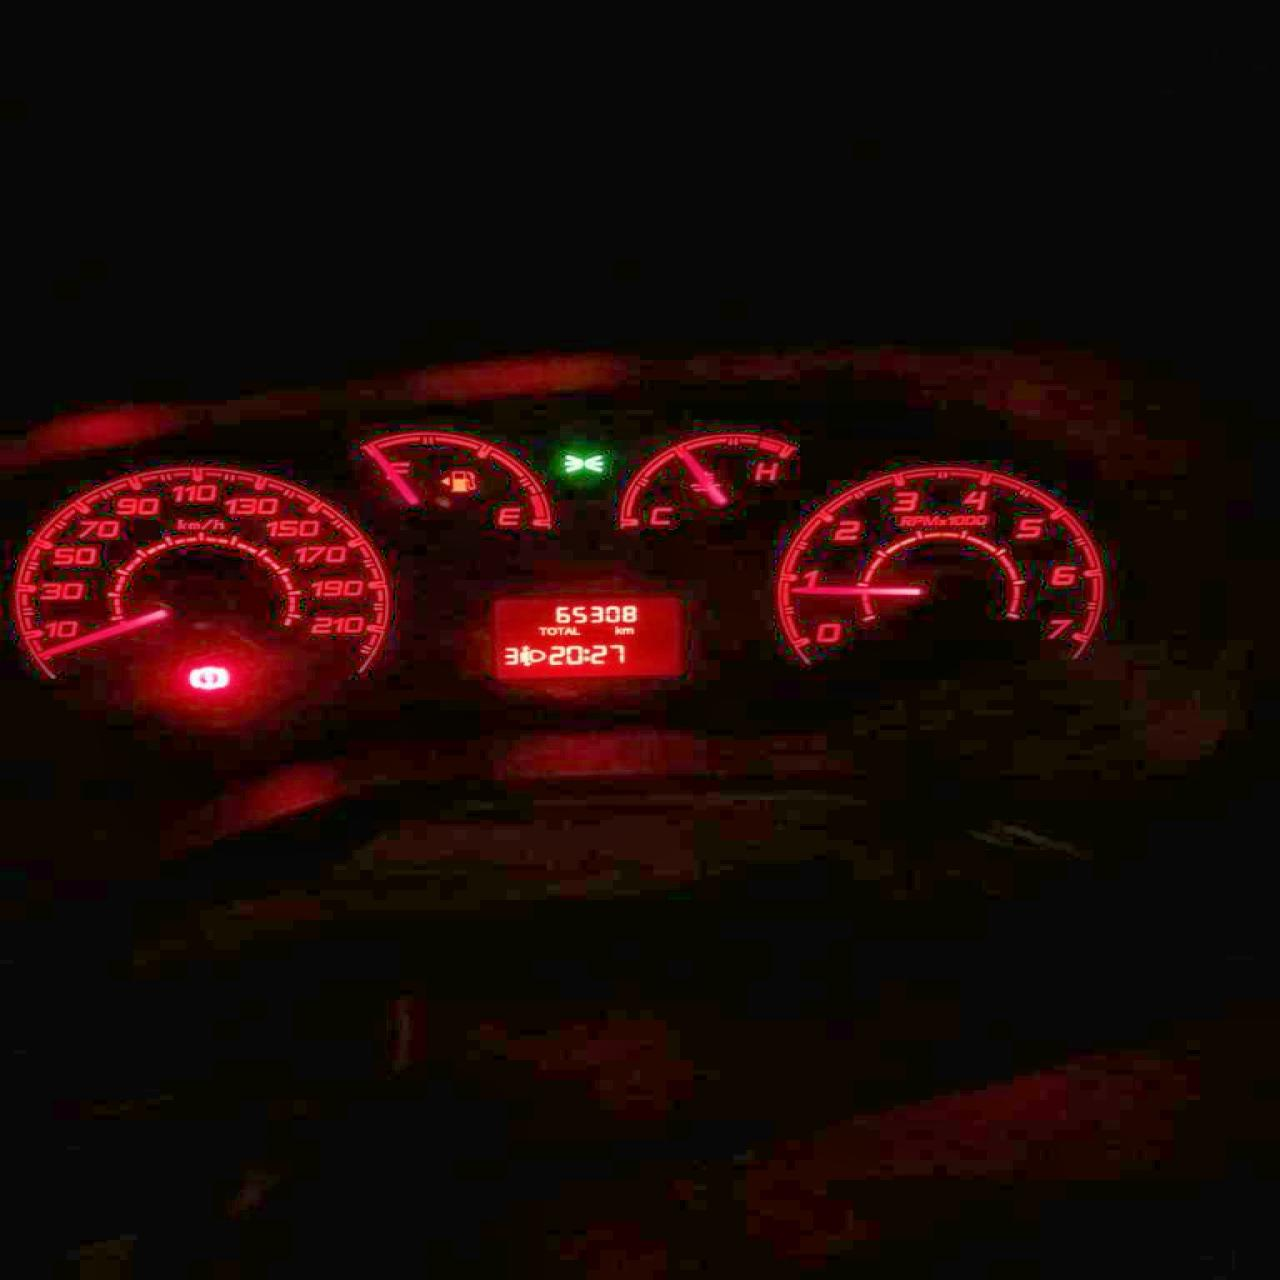0: (564, 644, 581, 663), (604, 605, 619, 622)
2: (588, 644, 607, 663), (546, 644, 564, 665)
3: (502, 646, 517, 663), (588, 605, 601, 621)
5: (572, 605, 586, 621)
6: (553, 605, 570, 622)
7: (607, 644, 624, 662)
8: (620, 605, 636, 621)
X: (545, 626, 557, 635), (581, 647, 588, 662), (554, 626, 564, 635), (570, 625, 578, 635), (537, 626, 545, 635), (613, 625, 621, 634), (561, 626, 570, 634), (621, 627, 632, 633)
odometer: (485, 592, 683, 681)
